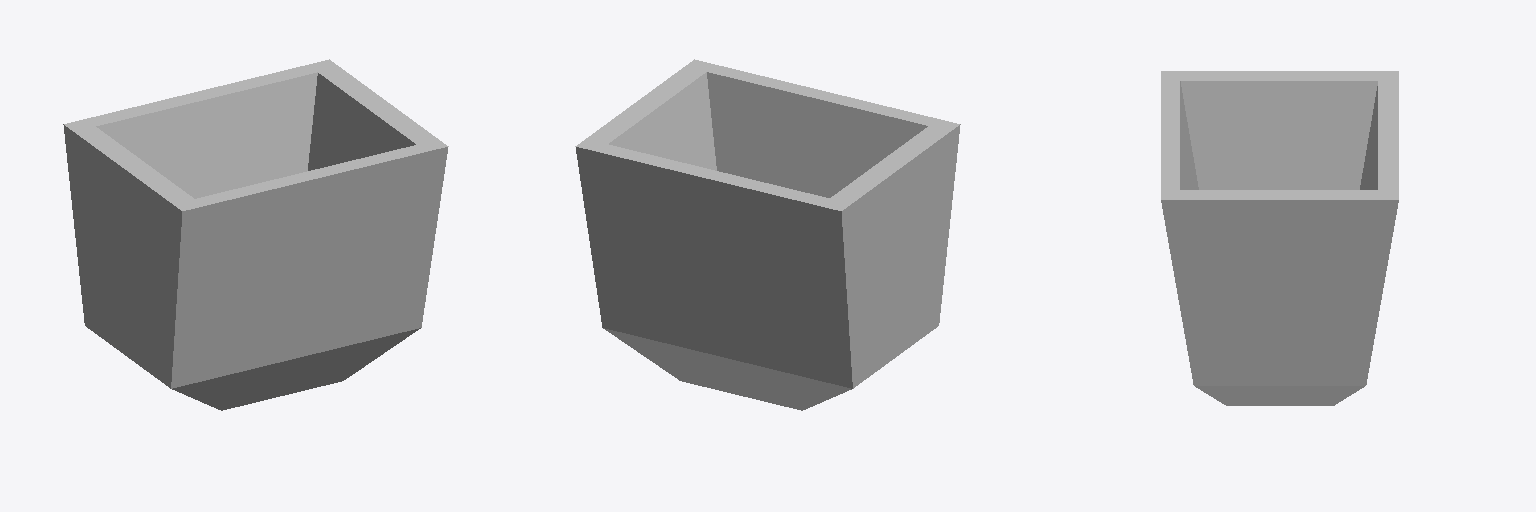
File: minecart-bounds.obj
3 views of the same model, side by side, from view 1: azimuth 30°, elevation 25°; view 2: azimuth 150°, elevation 25°; view 3: azimuth 270°, elevation 25° (orthographic).
Parts seen in each view (by area): view 1: Cube; view 2: Cube; view 3: Cube.
Boxes of the visible parts, box(x1,y1,x2,y2) form: Cube: box(63, 59, 448, 410); Cube: box(575, 59, 960, 410); Cube: box(1161, 71, 1398, 405).
Size of the model in its own units: 3.42 by 2.96 by 2.65.